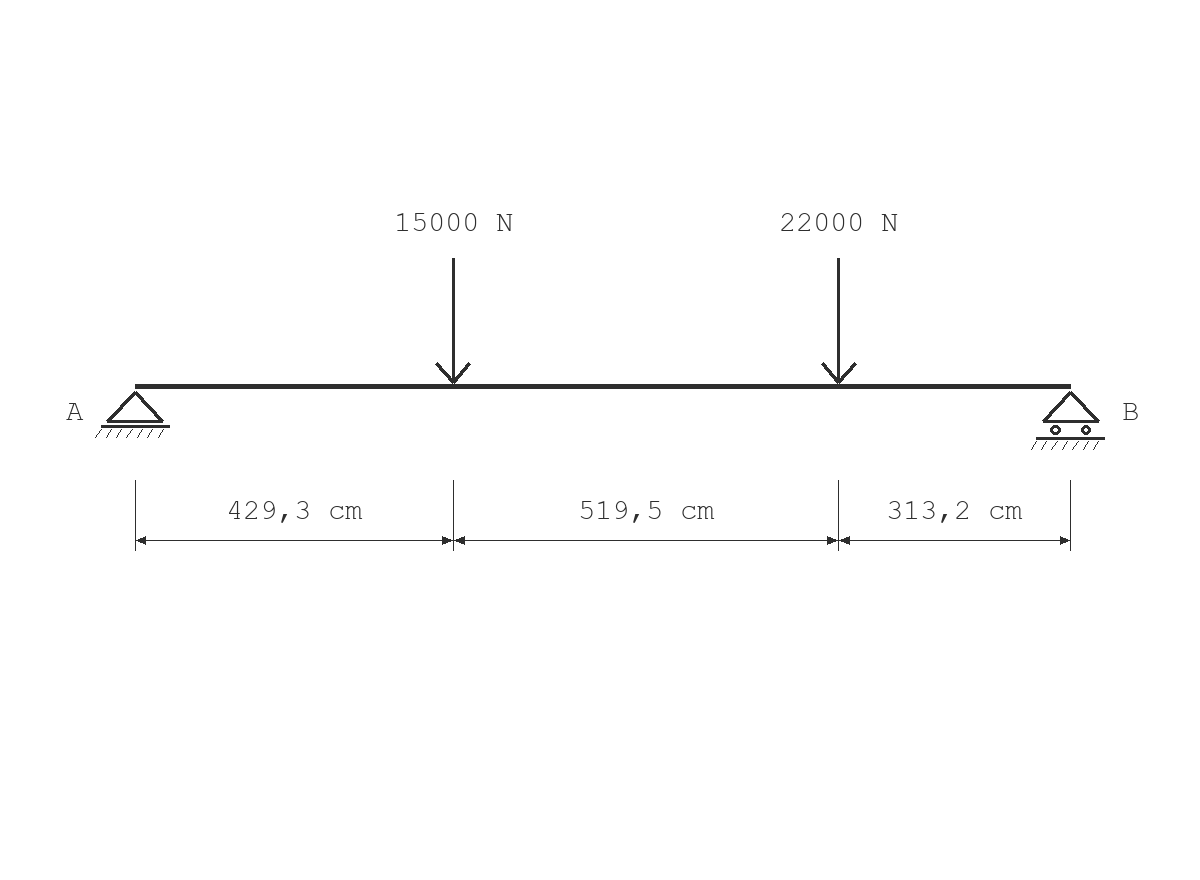pin_support: (95, 391, 170, 438)
point_load: (435, 258, 471, 384), (821, 258, 857, 384)
roller_support: (1031, 391, 1105, 450)
